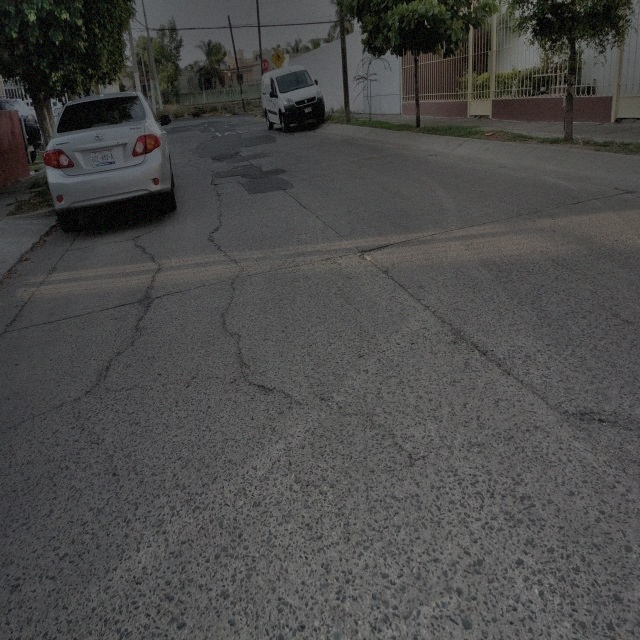pothole: (357, 248, 374, 265)
